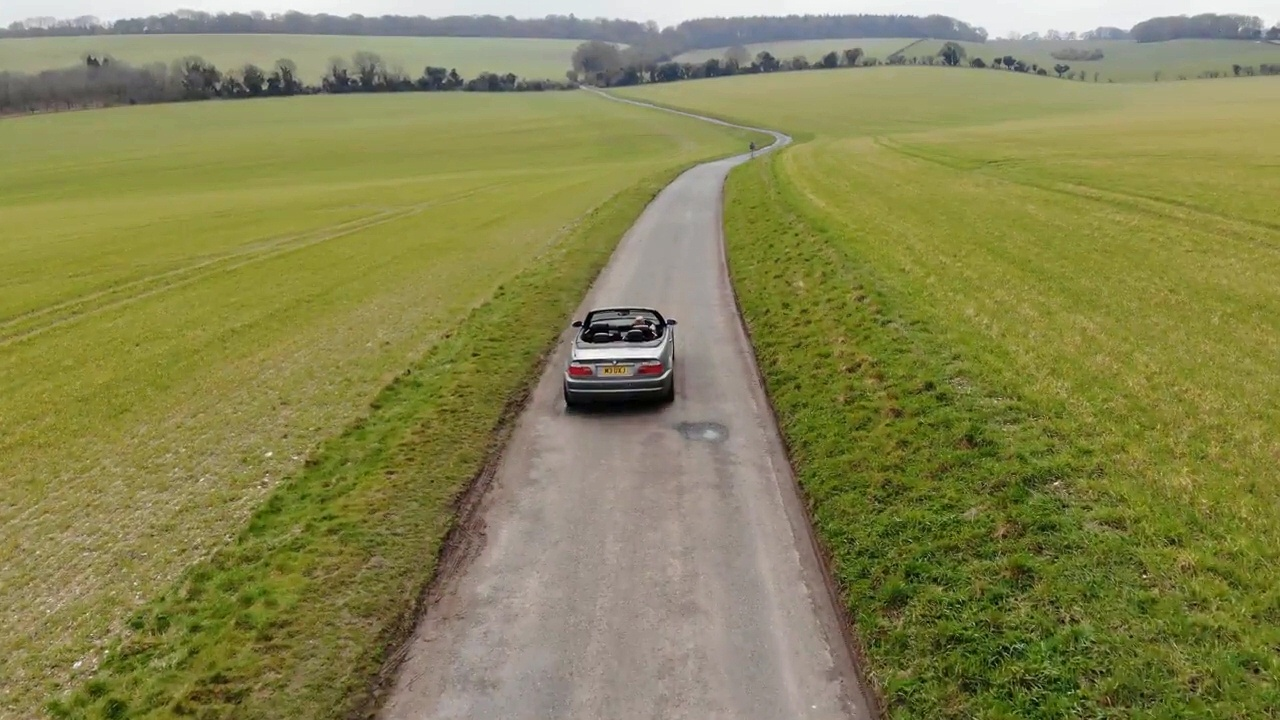araba: (561, 306, 682, 405)
